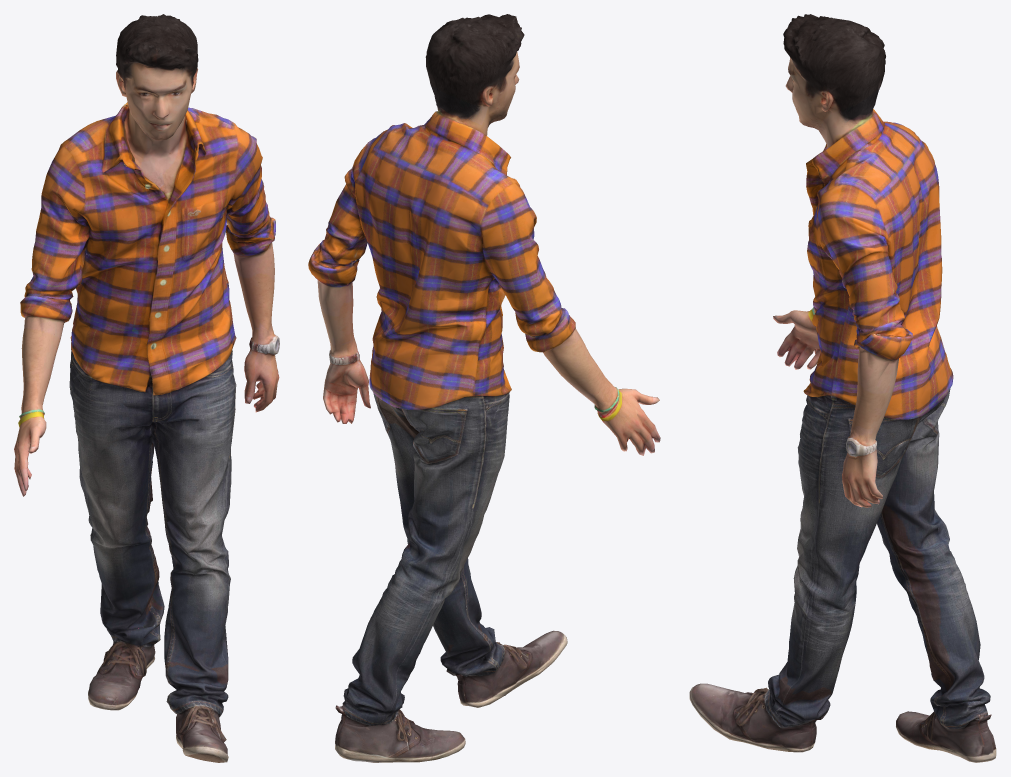
The model's file is man2.dae.
3 renders of one model, left to right at view 1: azimuth 30°, elevation 25°; view 2: azimuth 150°, elevation 25°; view 3: azimuth 270°, elevation 25°, orthographic. The views are drawn at different scales.
Visible parts, largest first — view 1: man; view 2: man; view 3: man.
Part boxes in pixels (x1,y1,x2,y2): man: (14,14,279,762); man: (308,14,660,762); man: (689,14,996,762).
Size of the model in its own units: 76.47 by 173 by 67.26.
Materials: 1 (1 with a texture image).
